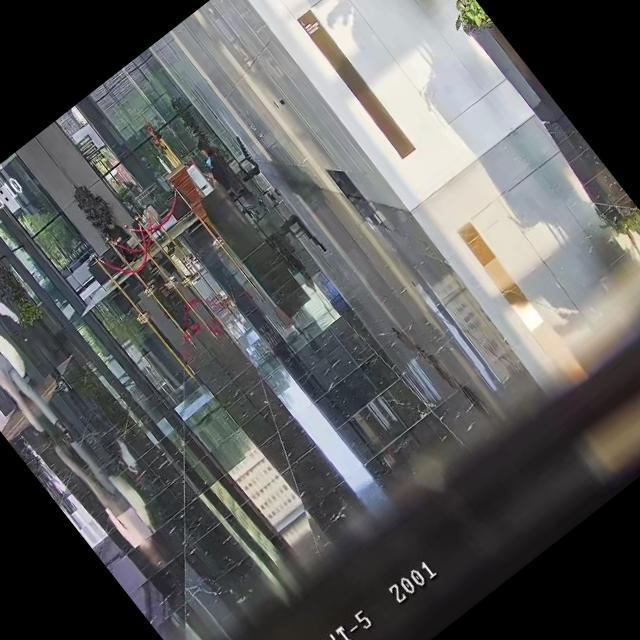person: (0, 292, 71, 453), (0, 278, 73, 397), (192, 138, 238, 191), (98, 214, 144, 264)
